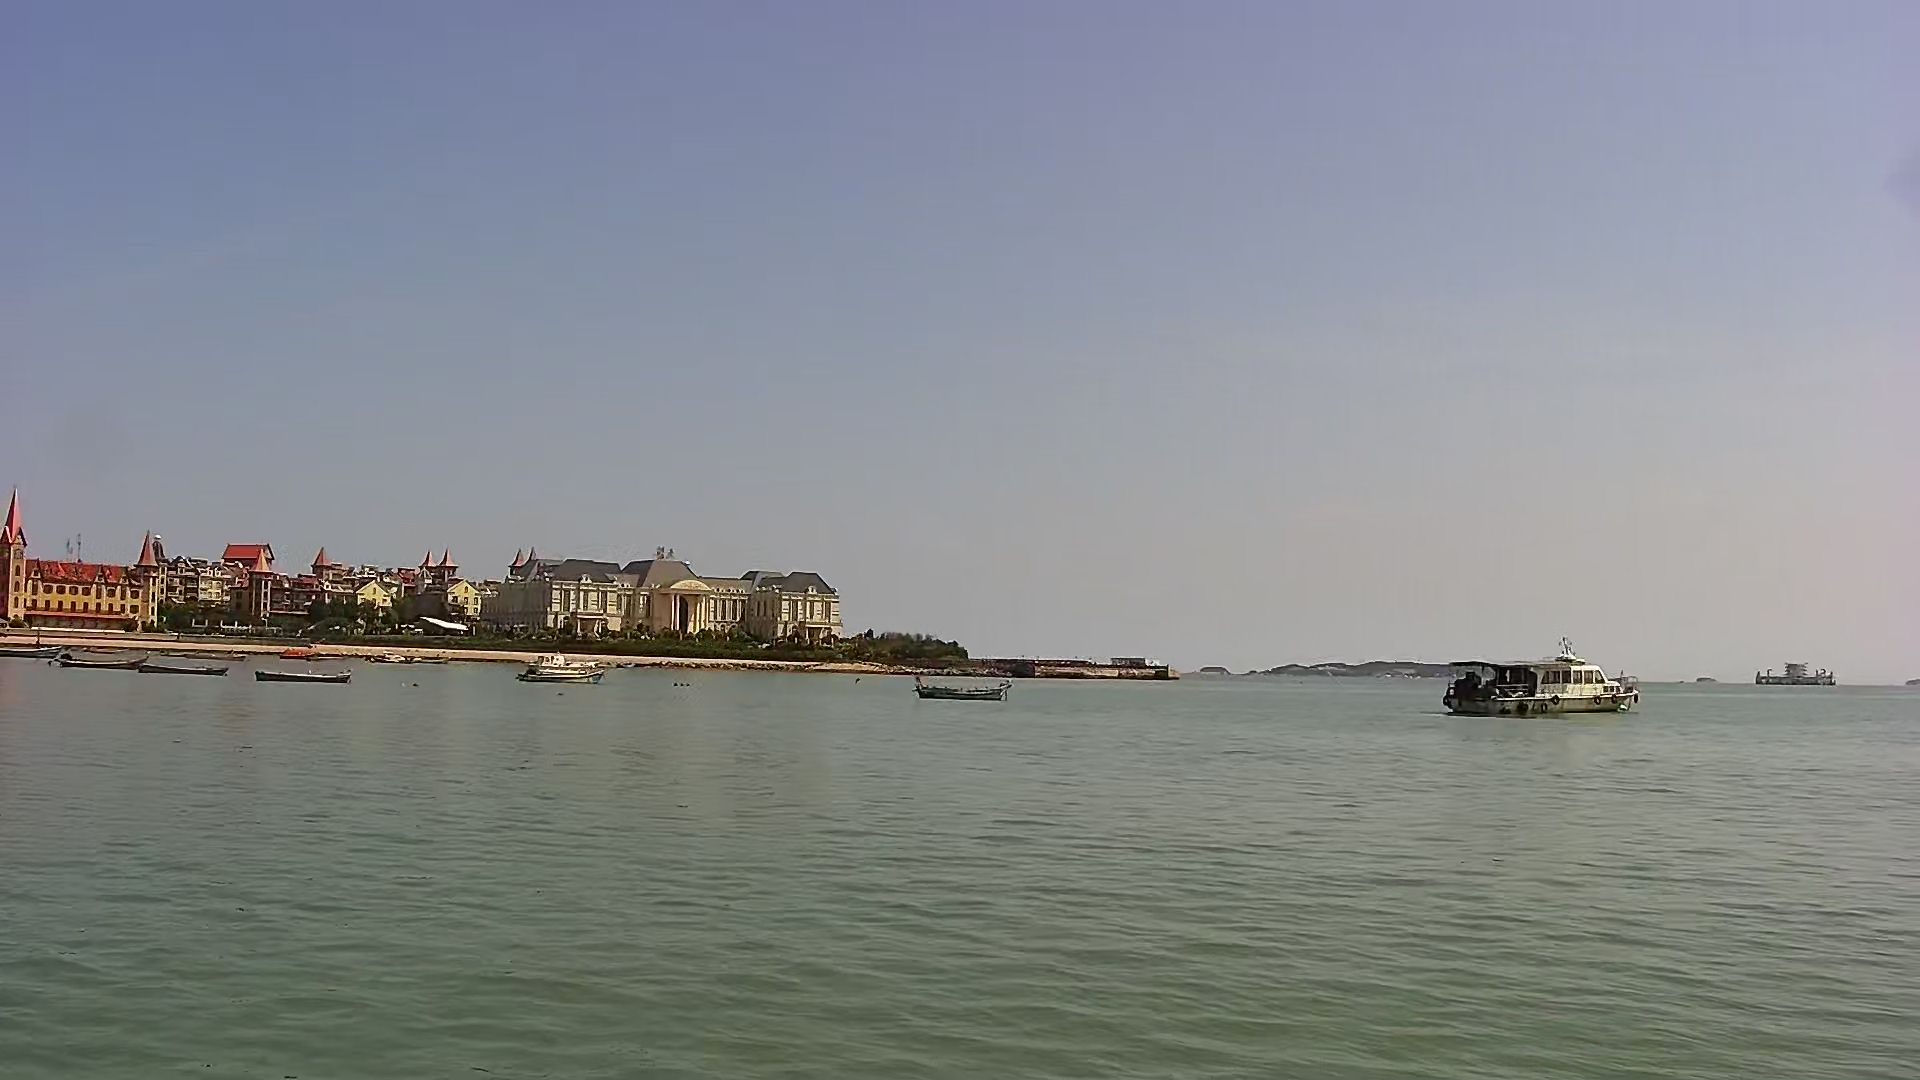boat: (517, 649, 607, 683), (911, 678, 1014, 705), (47, 649, 149, 675), (251, 663, 363, 686), (138, 663, 228, 678)
platform: (1756, 661, 1836, 688)
ship: (1444, 637, 1643, 720)
